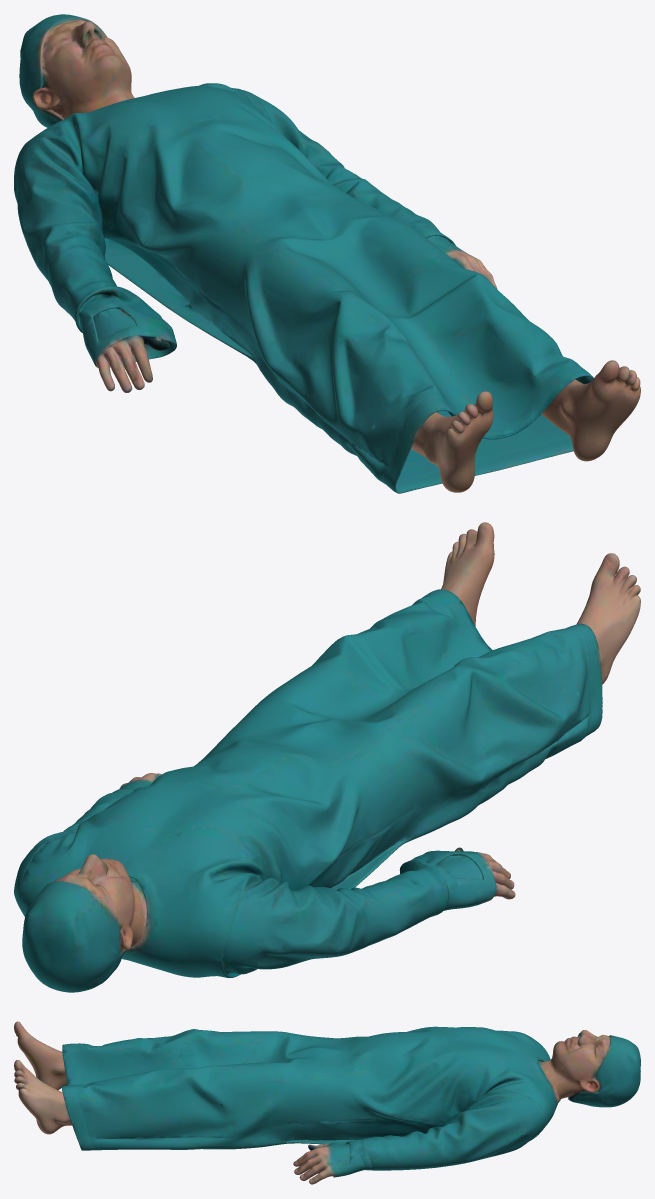
The model's file is mainPatient.glb.
3 renders of one model, top to bottom at view 1: azimuth 30°, elevation 25°; view 2: azimuth 150°, elevation 25°; view 3: azimuth 270°, elevation 25°, orthographic. The views are drawn at different scales.
Visible parts, largest first — view 1: Mesh_0; view 2: Mesh_0; view 3: Mesh_0.
Boxes of the visible parts, x1,y1,x2,y2 form: Mesh_0: (14,14,640,493); Mesh_0: (14,522,640,992); Mesh_0: (14,1021,640,1184).
Size of the model in its own units: 0.5246 by 0.2033 by 1.17.
1 material, 1 textured.
